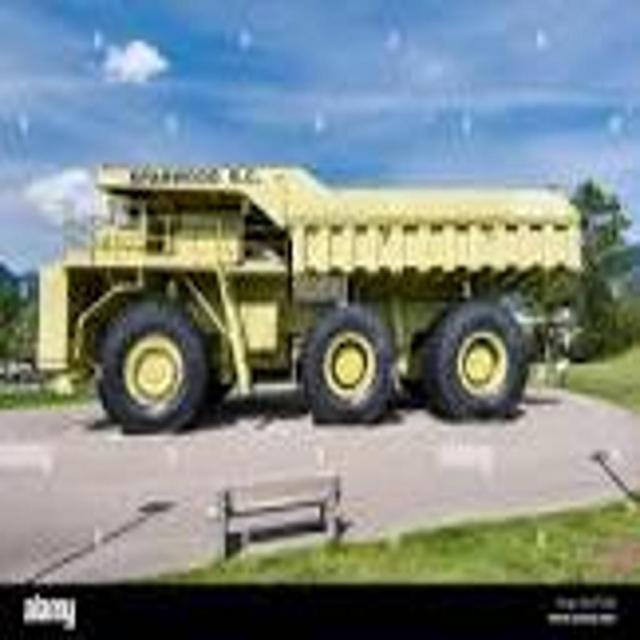dump_truck: (42, 144, 586, 432)
